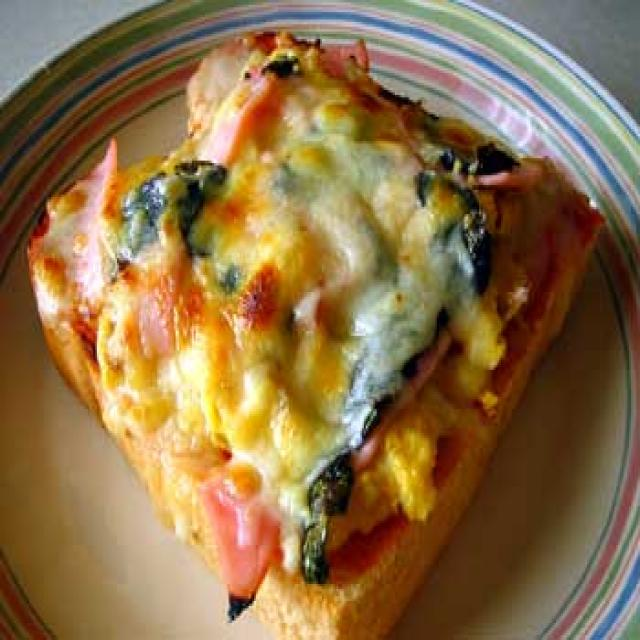面包点心: (18, 19, 611, 640)
